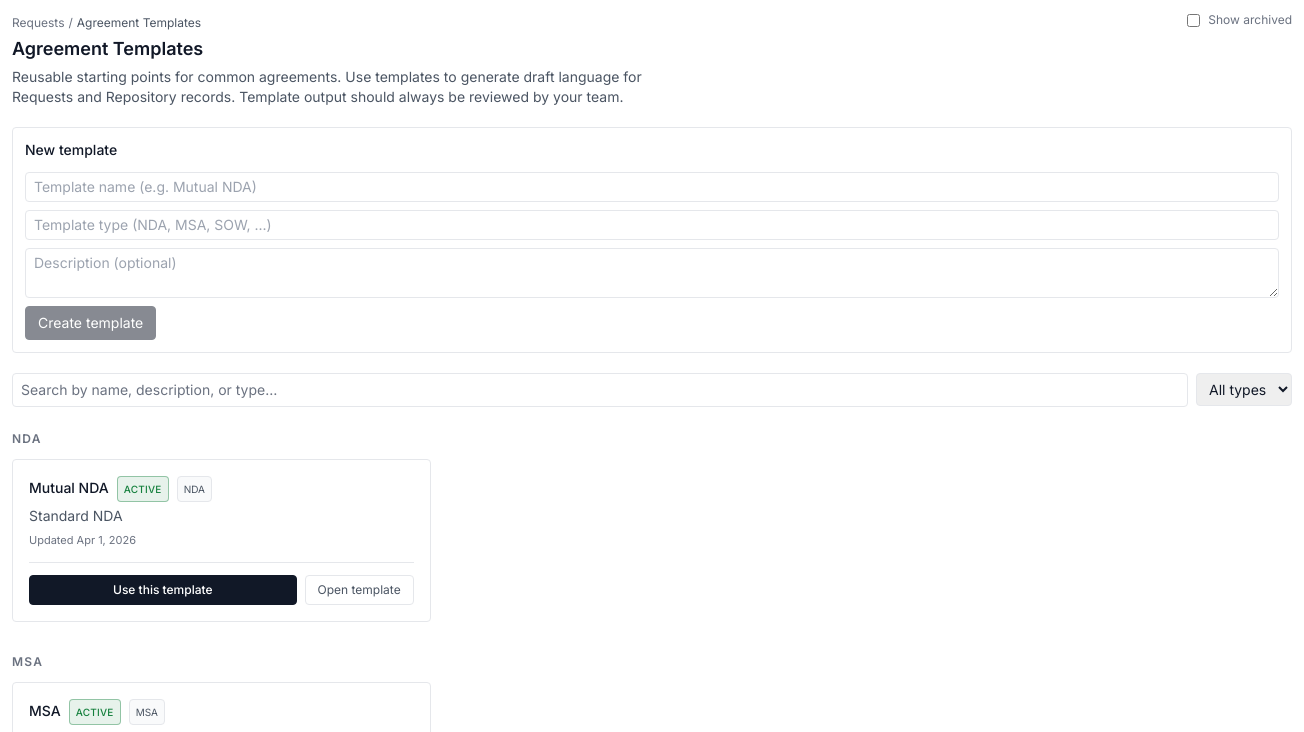
Test: AgreementTemplatesPage › reset filters button restores full catalog
The width and height of the screenshot is (1304, 732).
Expected: the text "Mutual NDA" is shown, top-left (29, 478), bottom-right (109, 498)
Type "nothing-matches" into the search field with test id "agreement-templates-search".
click(600, 390); type("nothing-matches")  # box top-left (12, 372), bottom-right (1188, 406)
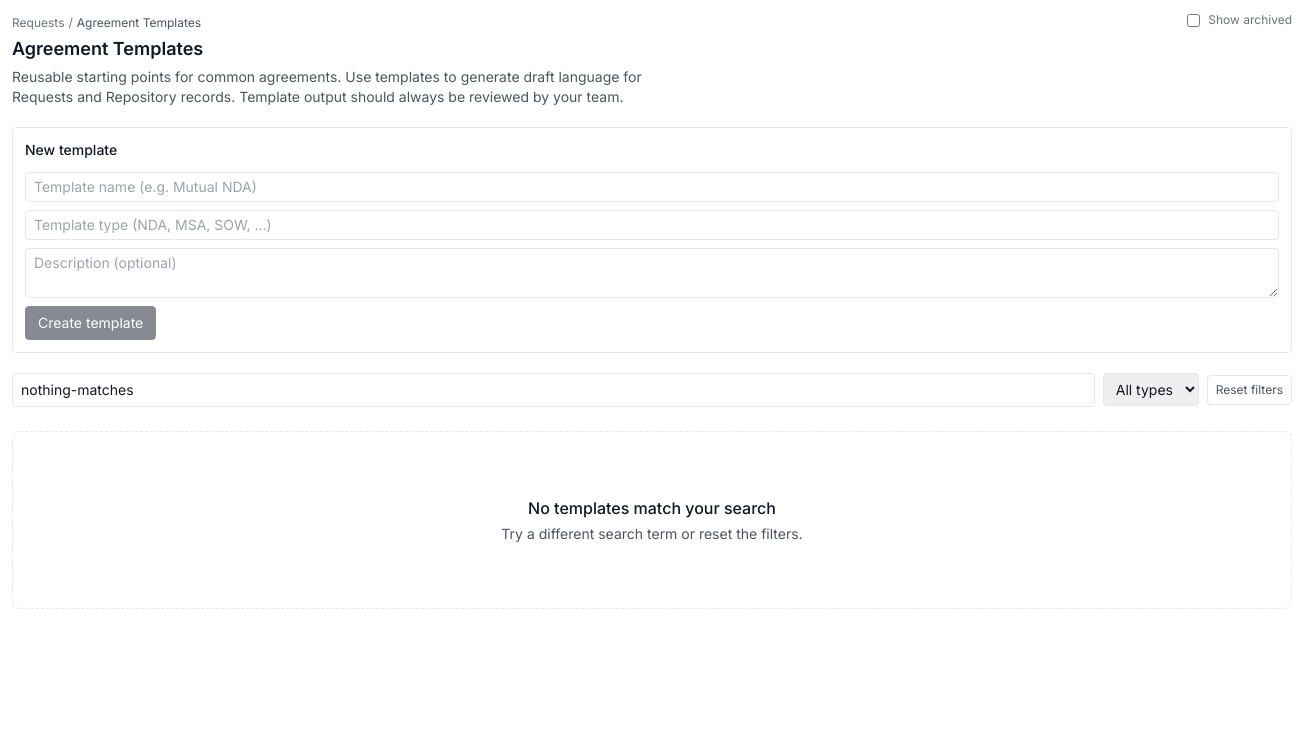
Click the button with test id "agreement-templates-reset-filters".
click(1249, 390)  # box top-left (1207, 374), bottom-right (1292, 404)
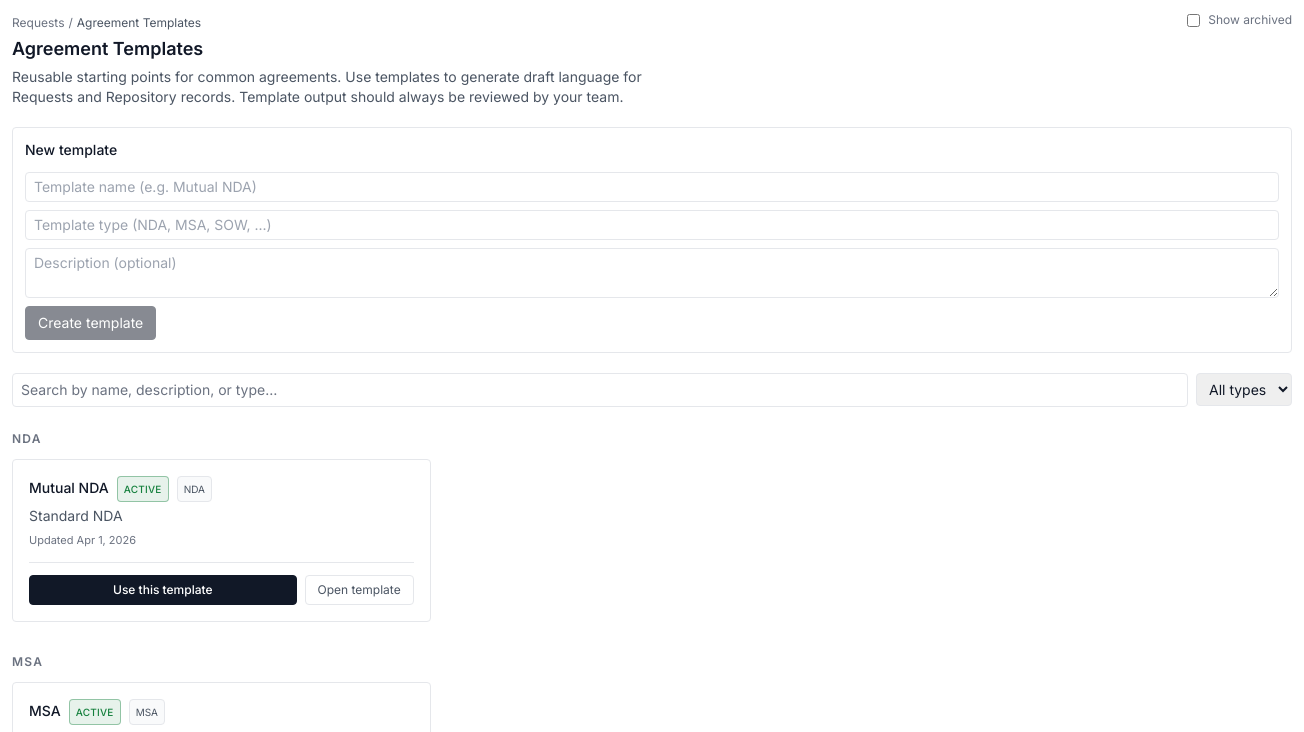
Expected: the text "Mutual NDA" is shown, top-left (29, 478), bottom-right (109, 498)
